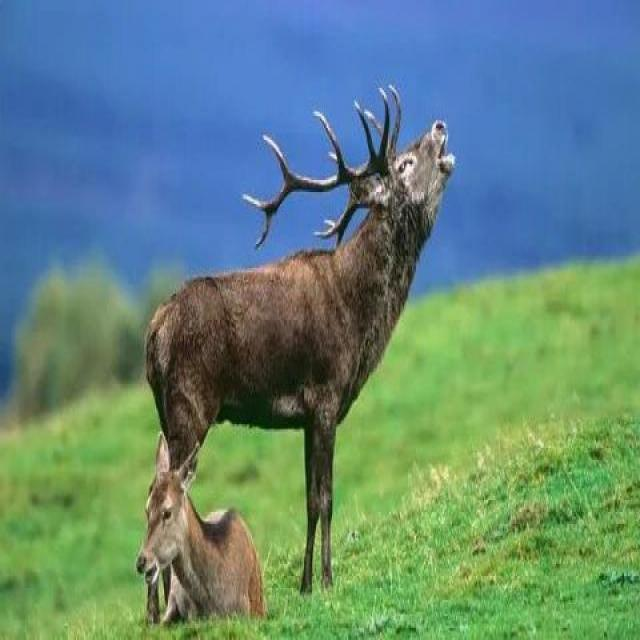deer: (111, 84, 492, 527), (124, 441, 272, 630)
